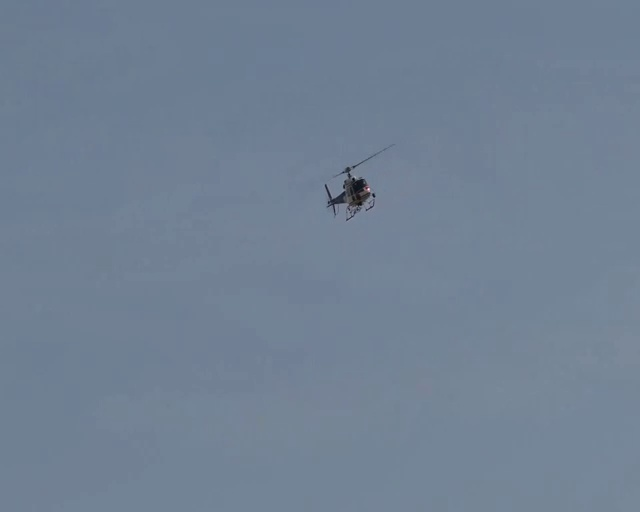HELICOPTER: (324, 143, 395, 221)
